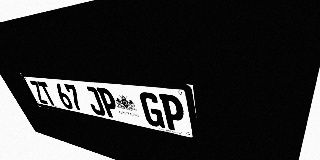6: (53, 83, 75, 110)
7: (63, 84, 86, 112)
G: (138, 91, 165, 128)
J: (83, 86, 106, 116)
P: (159, 94, 187, 133), (96, 87, 121, 119)
T: (37, 81, 57, 106)
Z: (29, 80, 49, 105)
